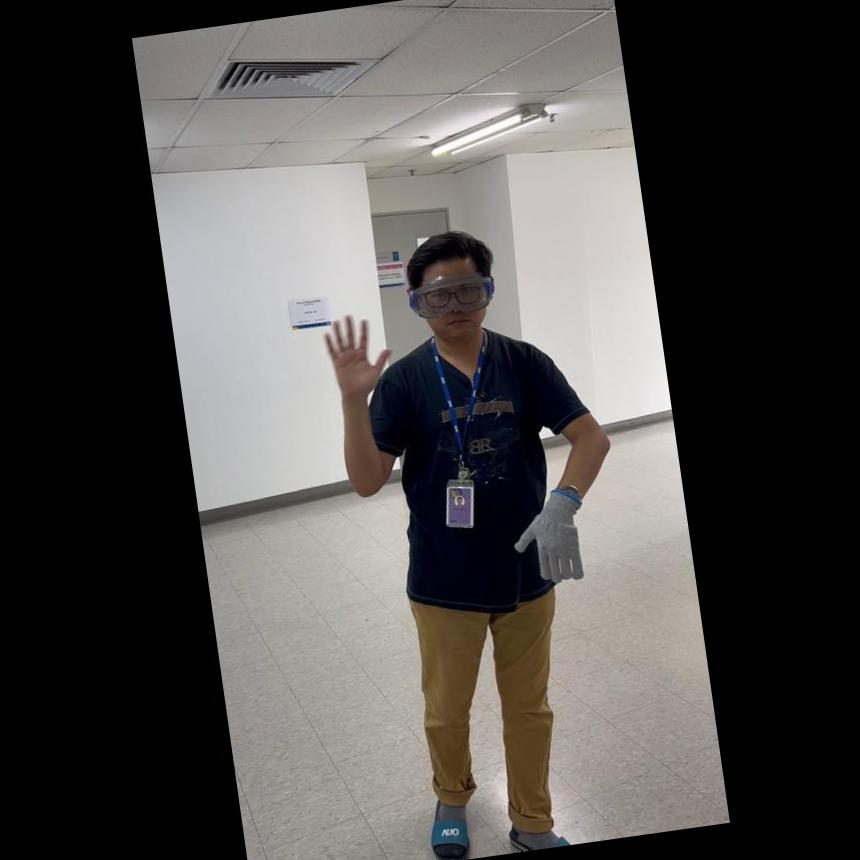Gloves: (504, 478, 592, 590)
No-gloves: (316, 303, 392, 396)
